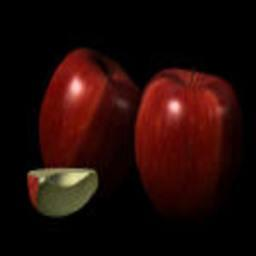apple: (135, 68, 240, 222), (37, 46, 142, 179)
